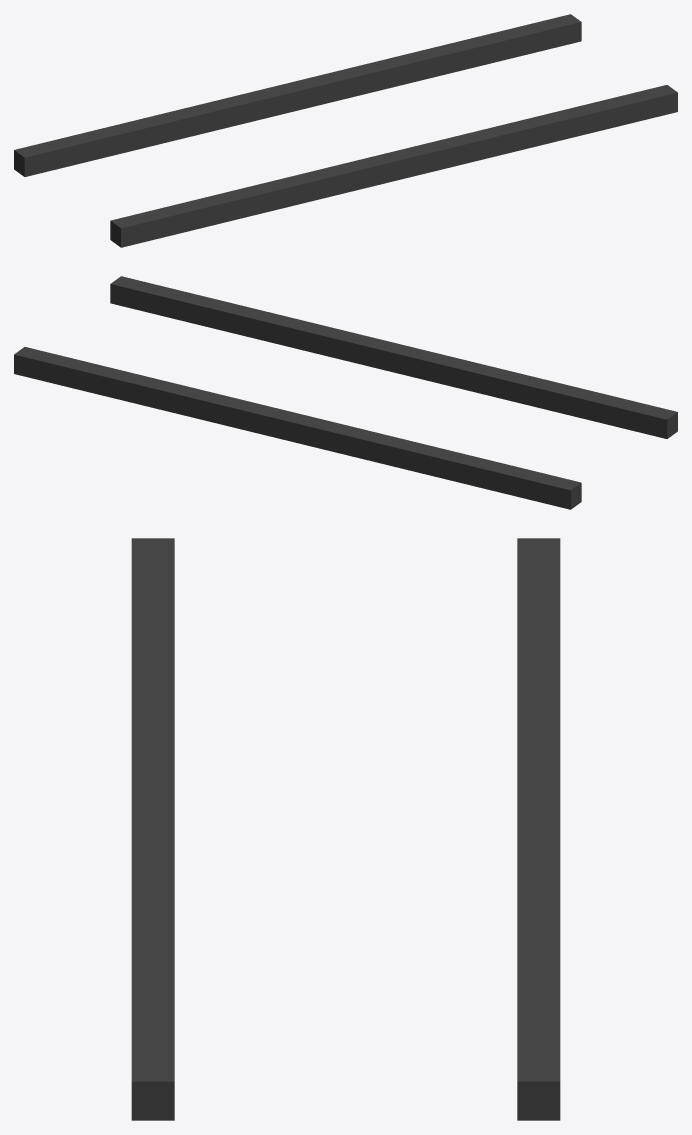
The model's file is obj_tracks1.fbx.
3 renders of one model, top to bottom at view 1: azimuth 30°, elevation 25°; view 2: azimuth 150°, elevation 25°; view 3: azimuth 270°, elevation 25°, orthographic. The views are drawn at different scales.
Visible parts, largest first — view 1: obj_tracks1; view 2: obj_tracks1; view 3: obj_tracks1.
Part boxes in pixels (left/top/right/bottom): obj_tracks1: left=14, top=14, right=677, bottom=247; obj_tracks1: left=14, top=276, right=677, bottom=509; obj_tracks1: left=131, top=538, right=560, bottom=1120.
Bounding box in the file's own units: 3 × 1 × 0.1.
Materials: 1 (1 with a texture image).
